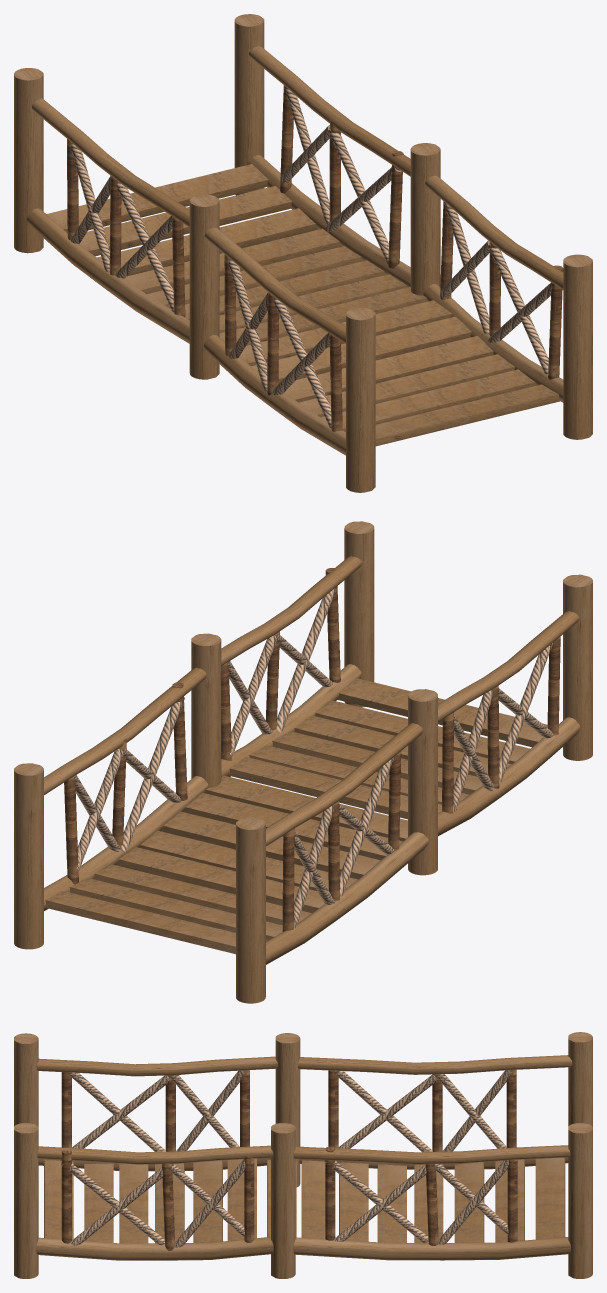
Rendered from Wooden Bridge.fbx.
The picture shows the model from 3 angles, top to bottom: view 1: azimuth 30°, elevation 25°; view 2: azimuth 150°, elevation 25°; view 3: azimuth 270°, elevation 25°; orthographic projection. The views are drawn at different scales.
Visible parts, largest first — view 1: pCube15; view 2: pCube15; view 3: pCube15.
Boxes of the visible parts, x1,y1,x2,y2 form: pCube15: [14, 14, 592, 492]; pCube15: [14, 521, 592, 1003]; pCube15: [14, 1032, 592, 1278].
Size of the model in its own units: 3.32 by 2.22 by 8.02.
4 materials, 4 textured.
